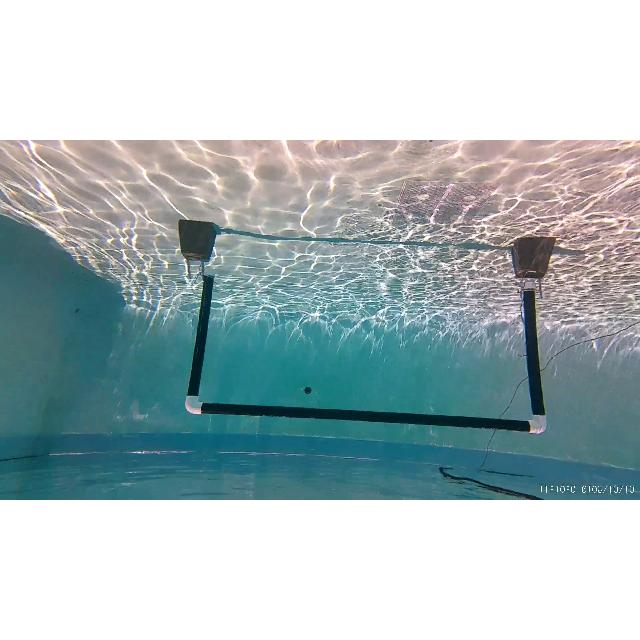prequal gate: (184, 261, 556, 435)
prequal gate leg l: (514, 241, 550, 427)
prequal gate leg r: (176, 223, 212, 413)
